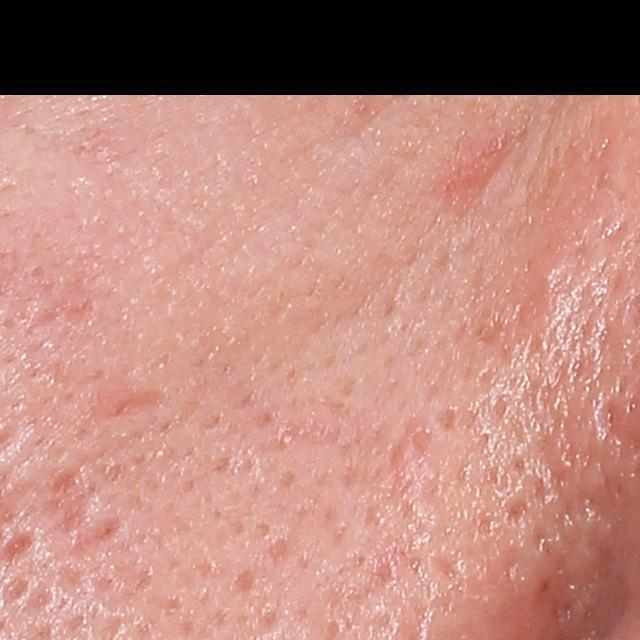atrophic_scar: (40, 460, 130, 568), (26, 257, 99, 341), (82, 387, 170, 422)
